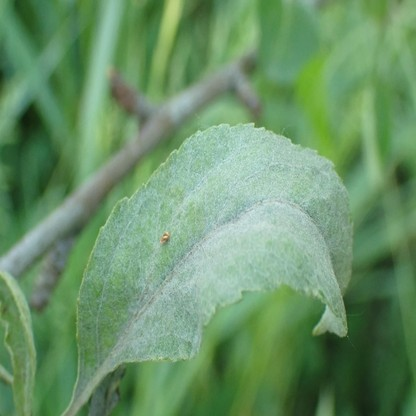powder: (78, 122, 353, 391)
